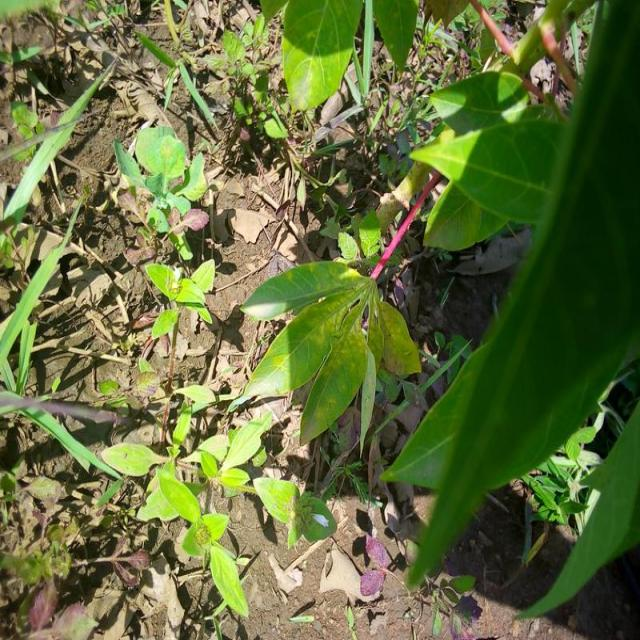cassava leaf: (380, 0, 640, 606), (282, 0, 364, 113)
